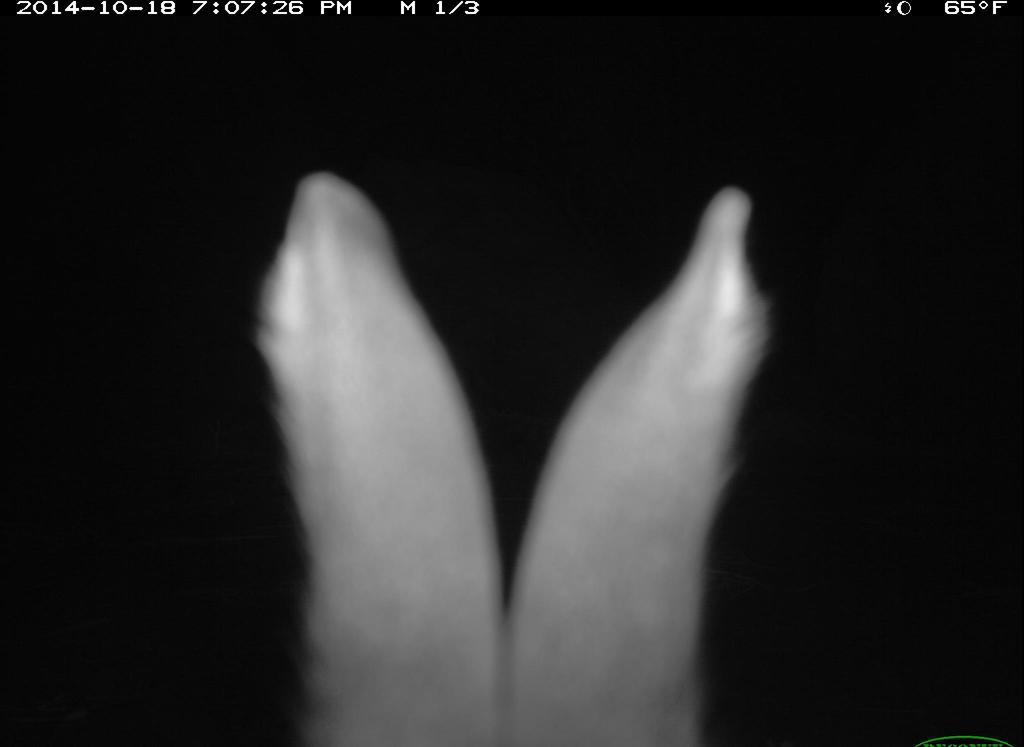rabbit: (232, 156, 805, 747)
